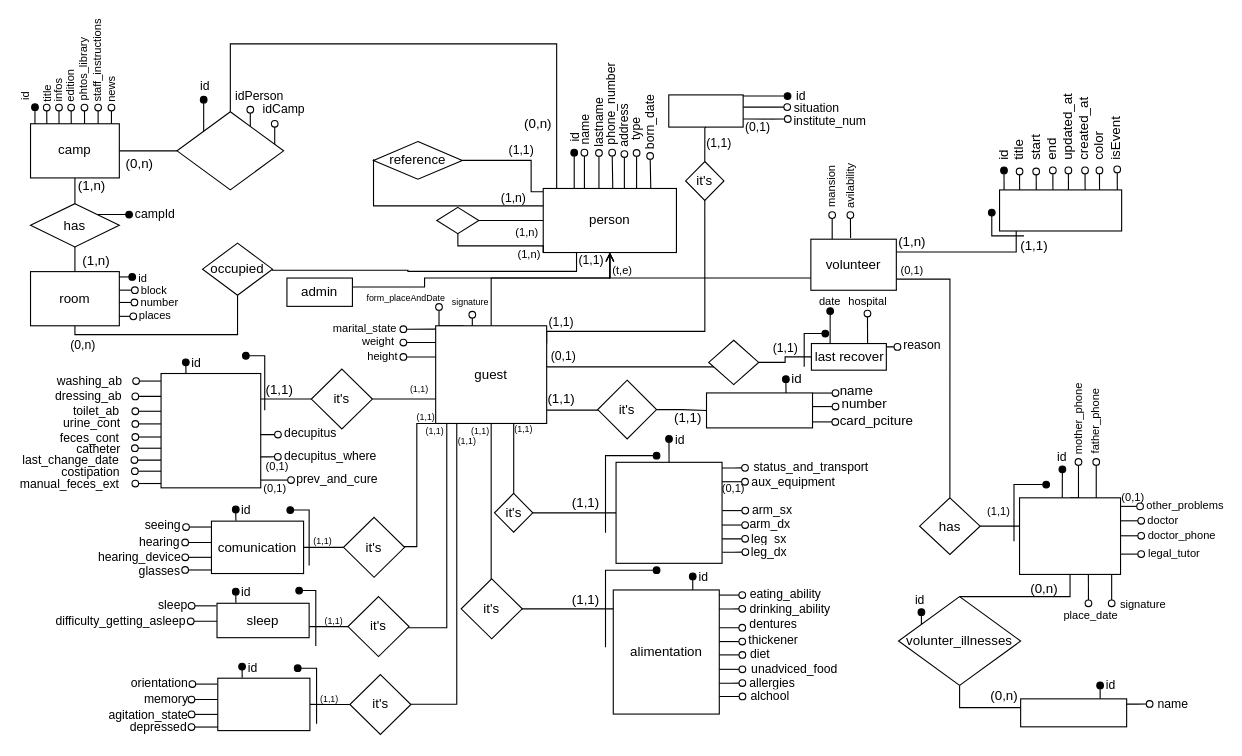
Some shapes in this 1242 by 756 pixel diagram are drawn without their labels. Each missing label, with the centre of its shape:
autocertificate: the point at 1069,535
belongs: the point at 230,150
events: the point at 1060,210
healt_insurance: the point at 759,410
hygiene: the point at 210,430
illness: the point at 1073,712
Living situation: the point at 705,110
movement: the point at 668,512
psyc_state: the point at 263,704
see: the point at 457,220
was: the point at 733,362
